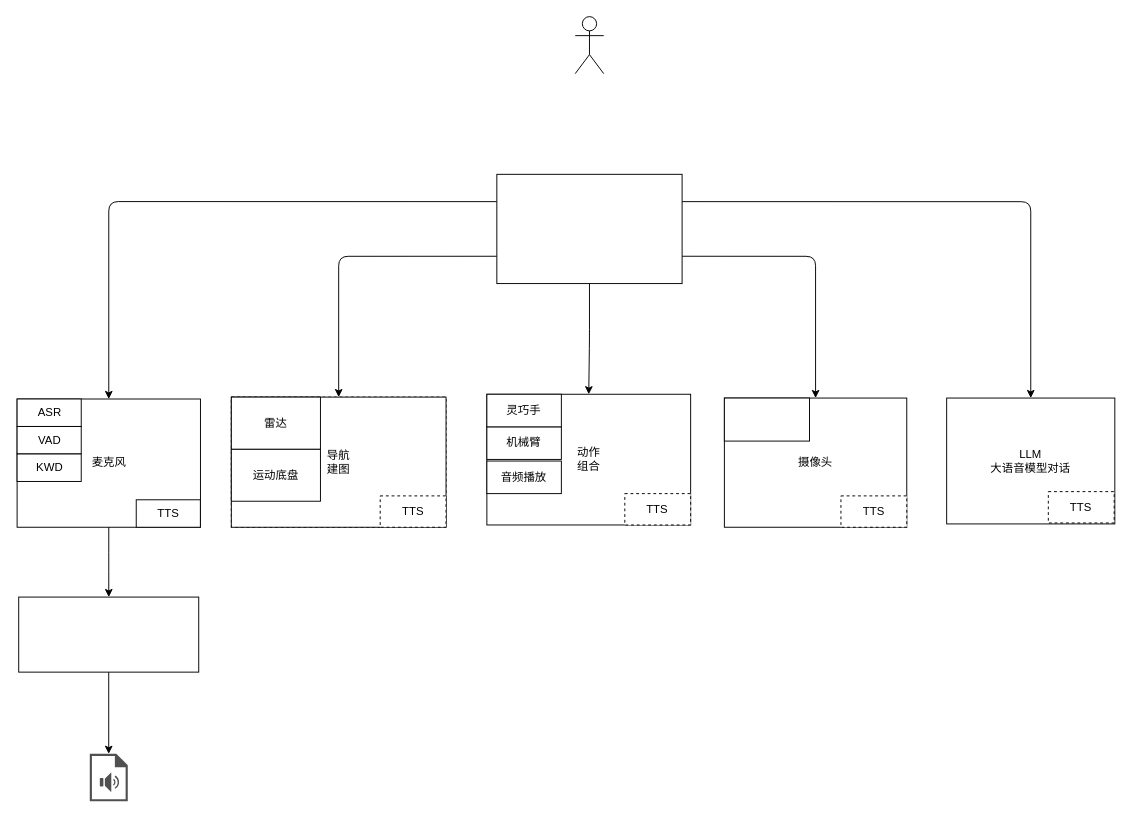
This 1131x818 diagram has some shape labels left out. Here are the shapes that lost their labels. From the top down, the centre of each, then its label:
[589,45]: Actor
[589,228]: 行为树
[766,419]: VLM
[108,634]: 扬声器
